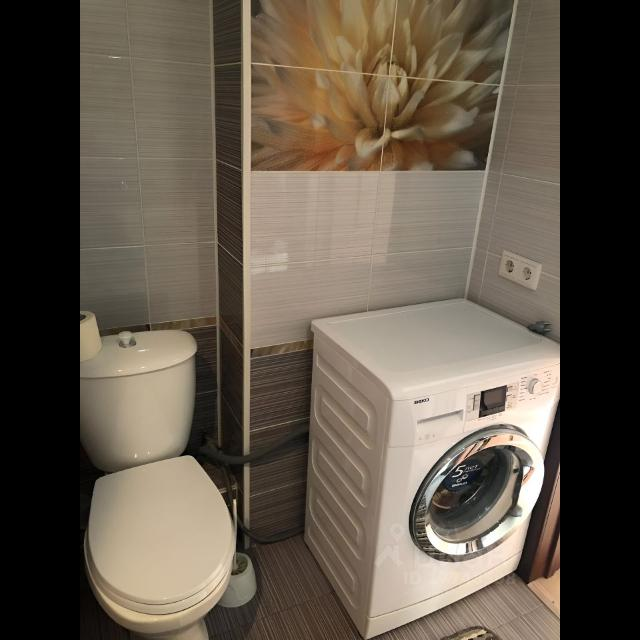Washing-Machine: (302, 300, 560, 636)
